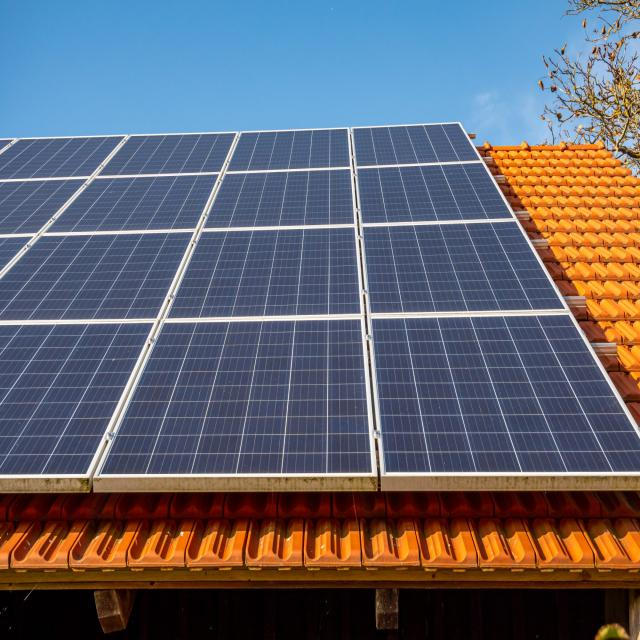clean-solar-panel: (371, 316, 640, 487)
